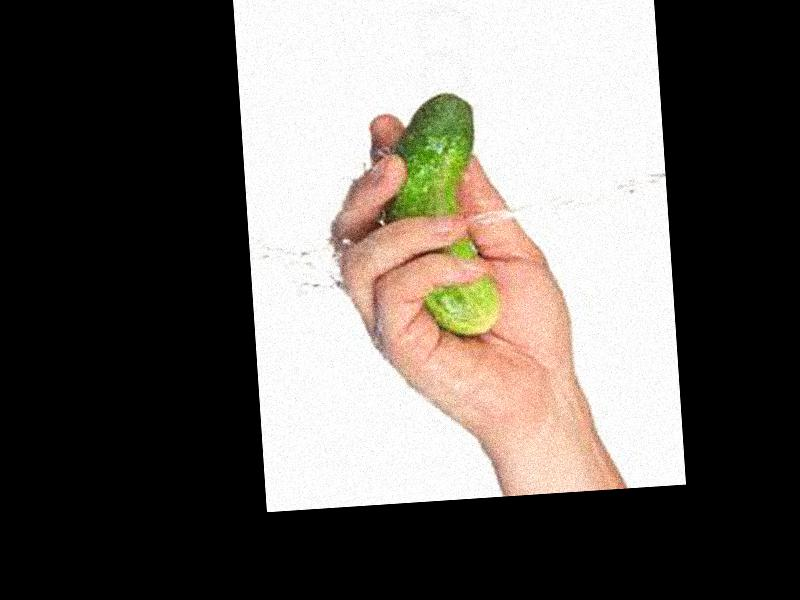Cucumber: (384, 90, 498, 338)
